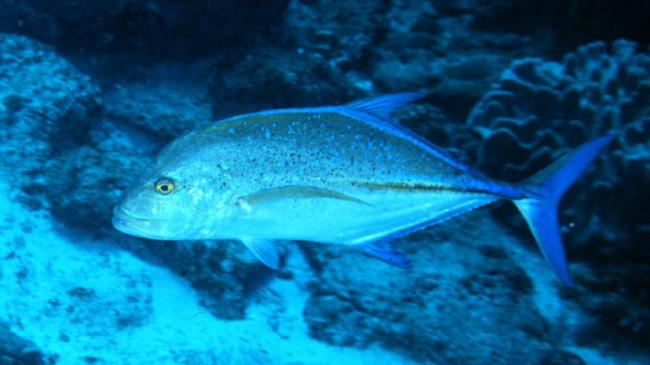fish: (111, 91, 620, 287)
